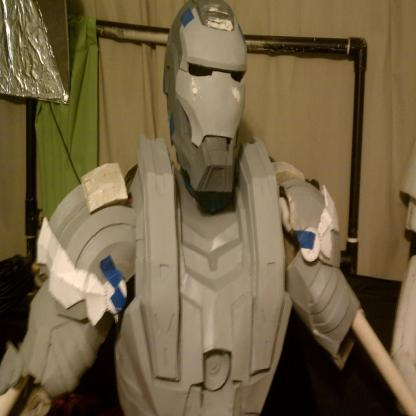Helmet: (158, 7, 252, 204)
